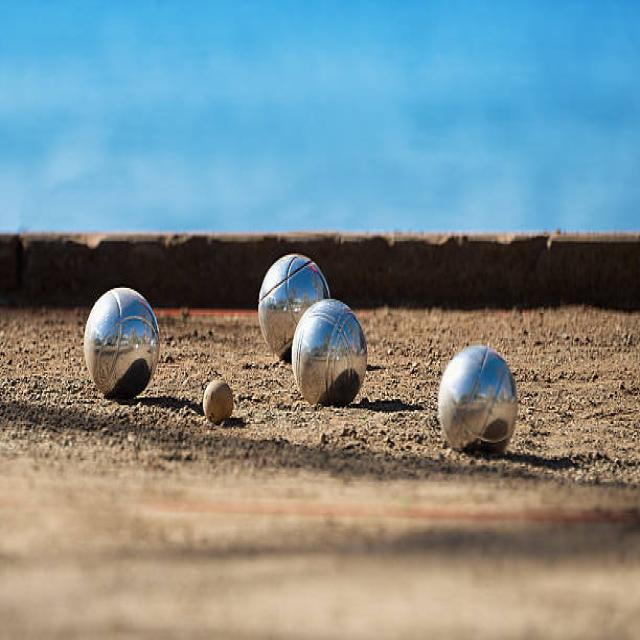hatball: (202, 378, 234, 428)
petanque: (430, 336, 523, 469), (283, 294, 374, 417), (79, 286, 165, 411), (253, 246, 336, 368)
